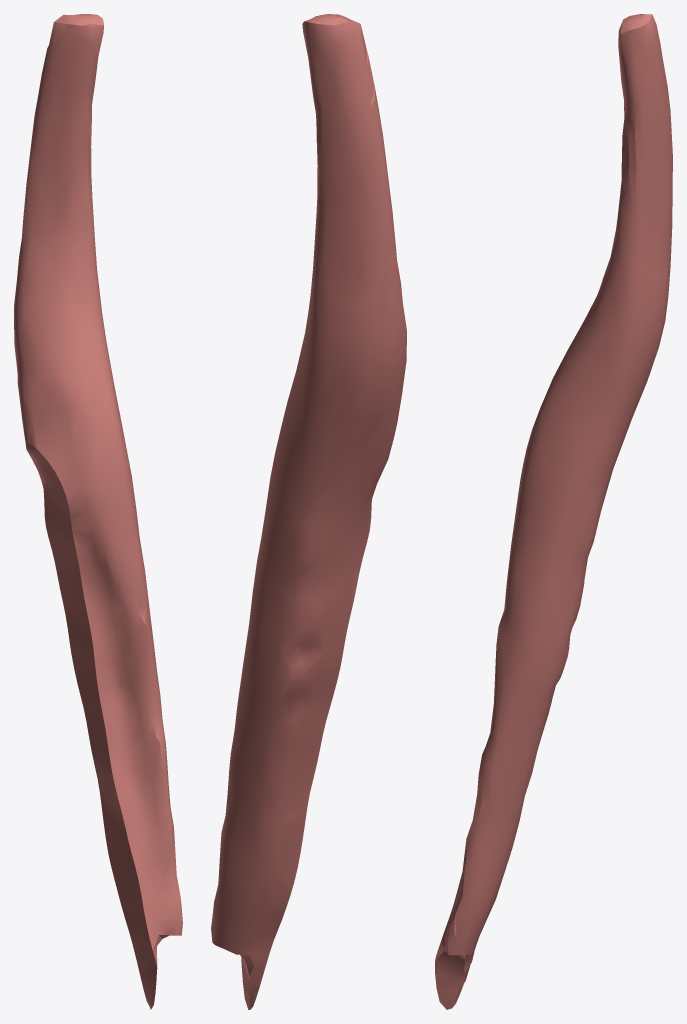
The model's file is fma298174_mm1860m.glb.
3 renders of one model, left to right at view 1: azimuth 30°, elevation 25°; view 2: azimuth 210°, elevation 25°; view 3: azimuth 270°, elevation 25°, orthographic. The views are drawn at different scales.
Visible parts, largest first — view 1: FMA298174_MM1860M; view 2: FMA298174_MM1860M; view 3: FMA298174_MM1860M.
Part boxes in pixels (x1,y1,x2,y2): FMA298174_MM1860M: (14,14,182,1009); FMA298174_MM1860M: (211,14,406,1009); FMA298174_MM1860M: (435,14,672,1009).
Bounding box in the file's own units: 0.0153 × 0.1408 × 0.0303.
